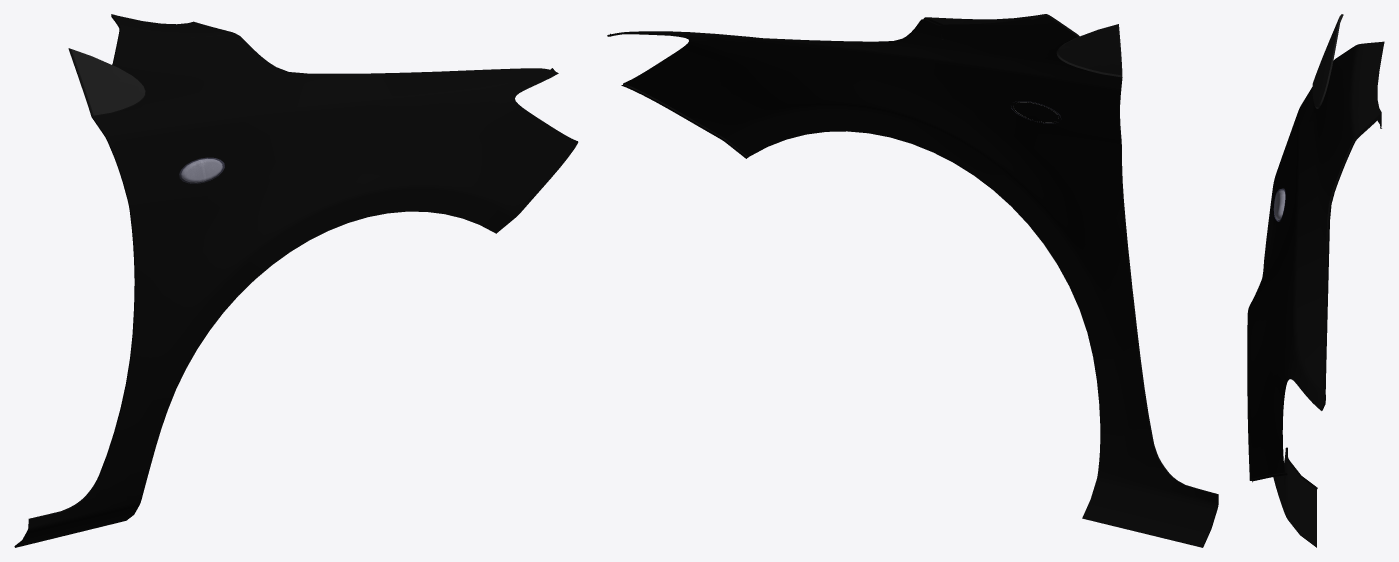
3 renders of one model, left to right at view 1: azimuth 30°, elevation 25°; view 2: azimuth 150°, elevation 25°; view 3: azimuth 270°, elevation 25°, orthographic. The views are drawn at different scales.
Parts seen in each view (by area): view 1: Y212_141B_R_3_DaS_Y212_141B_R, Y212_141B_R_Y212_141B_R_2_D, Y212_141B_R_3_DaS_Y212_141B_R_E, Y212_141B_R_Y212_141B_R_4_DTaSI, Y212_141B_R_Y212_141B_R_1_N; view 2: Y212_141B_R_3_DaS_Y212_141B_R, Y212_141B_R_Y212_141B_R_2_D, Y212_141B_R_3_DaS_Y212_141B_R_E, Y212_141B_R_Y212_141B_R_5_D; view 3: Y212_141B_R_3_DaS_Y212_141B_R, Y212_141B_R_Y212_141B_R_2_D, Y212_141B_R_3_DaS_Y212_141B_R_E, Y212_141B_R_Y212_141B_R_5_D, Y212_141B_R_Y212_141B_R_4_DTaSI, Y212_141B_R_Y212_141B_R_1_N.
Boxes of the visible parts, <box> form: Y212_141B_R_3_DaS_Y212_141B_R: <box>15,14,577,547</box>; Y212_141B_R_Y212_141B_R_2_D: <box>68,48,145,116</box>; Y212_141B_R_3_DaS_Y212_141B_R_E: <box>14,14,135,547</box>; Y212_141B_R_Y212_141B_R_4_DTaSI: <box>179,157,224,183</box>; Y212_141B_R_Y212_141B_R_1_N: <box>181,158,222,182</box>; Y212_141B_R_3_DaS_Y212_141B_R: <box>623,14,1217,547</box>; Y212_141B_R_Y212_141B_R_2_D: <box>1056,24,1122,78</box>; Y212_141B_R_3_DaS_Y212_141B_R_E: <box>612,14,1218,547</box>; Y212_141B_R_Y212_141B_R_5_D: <box>607,19,943,158</box>; Y212_141B_R_3_DaS_Y212_141B_R: <box>1247,41,1384,547</box>; Y212_141B_R_Y212_141B_R_2_D: <box>1312,14,1343,108</box>; Y212_141B_R_3_DaS_Y212_141B_R_E: <box>1250,113,1381,489</box>; Y212_141B_R_Y212_141B_R_5_D: <box>1252,116,1381,482</box>; Y212_141B_R_Y212_141B_R_4_DTaSI: <box>1273,188,1285,221</box>; Y212_141B_R_Y212_141B_R_1_N: <box>1274,190,1285,219</box>.
Bounding box in the file's own units: 117 × 97.16 × 23.47.
